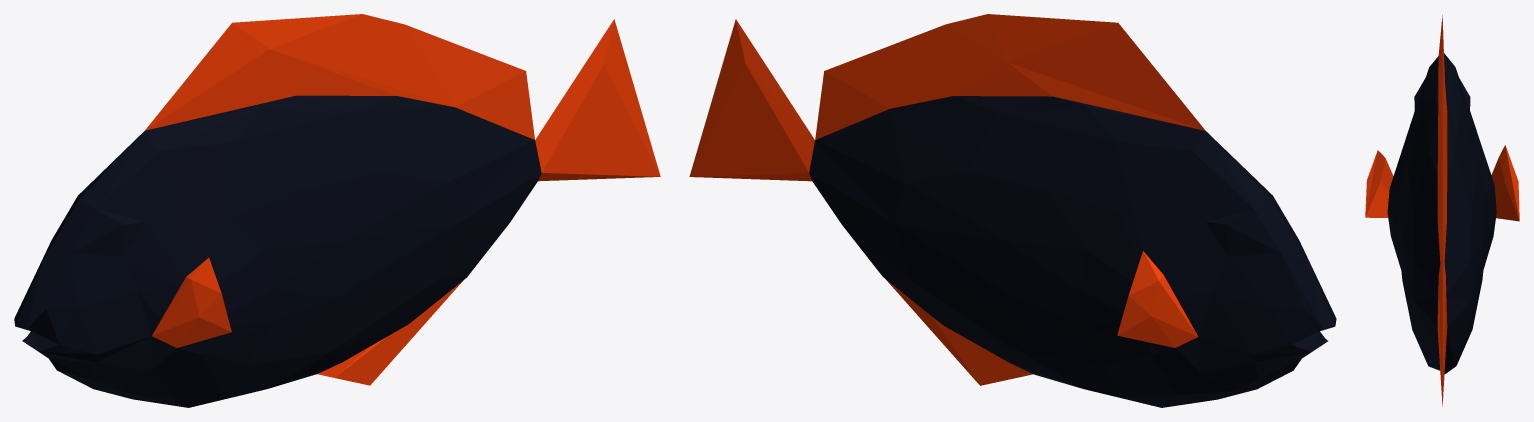
File: Dori.FBX
The picture shows the model from 3 angles, left to right: view 1: azimuth 30°, elevation 25°; view 2: azimuth 150°, elevation 25°; view 3: azimuth 270°, elevation 25°; orthographic projection. The views are drawn at different scales.
Visible parts, largest first — view 1: Dori; view 2: Dori; view 3: Dori.
Boxes of the visible parts, <box> form: Dori: <box>14,14,660,407</box>; Dori: <box>689,14,1336,407</box>; Dori: <box>1365,15,1519,406</box>.
Size of the model in its own units: 100 by 58.84 by 24.68.
